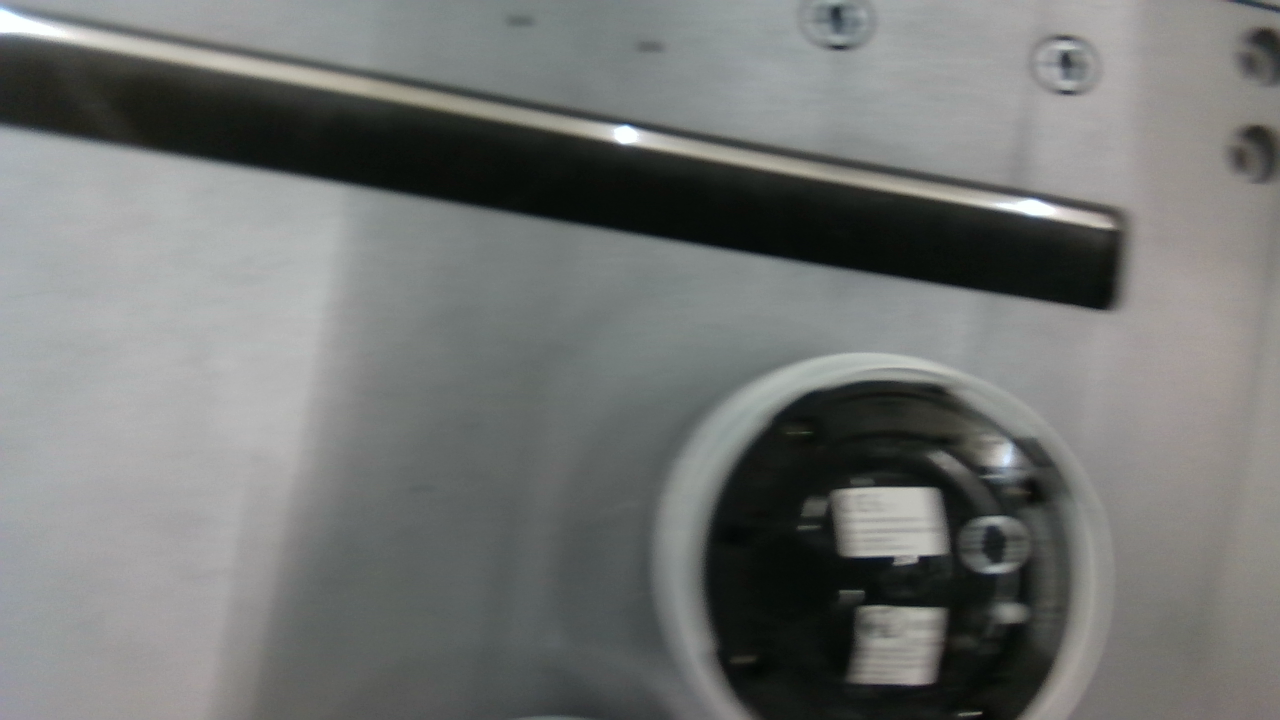HexScrew: (983, 436, 1012, 470), (789, 421, 814, 441)
